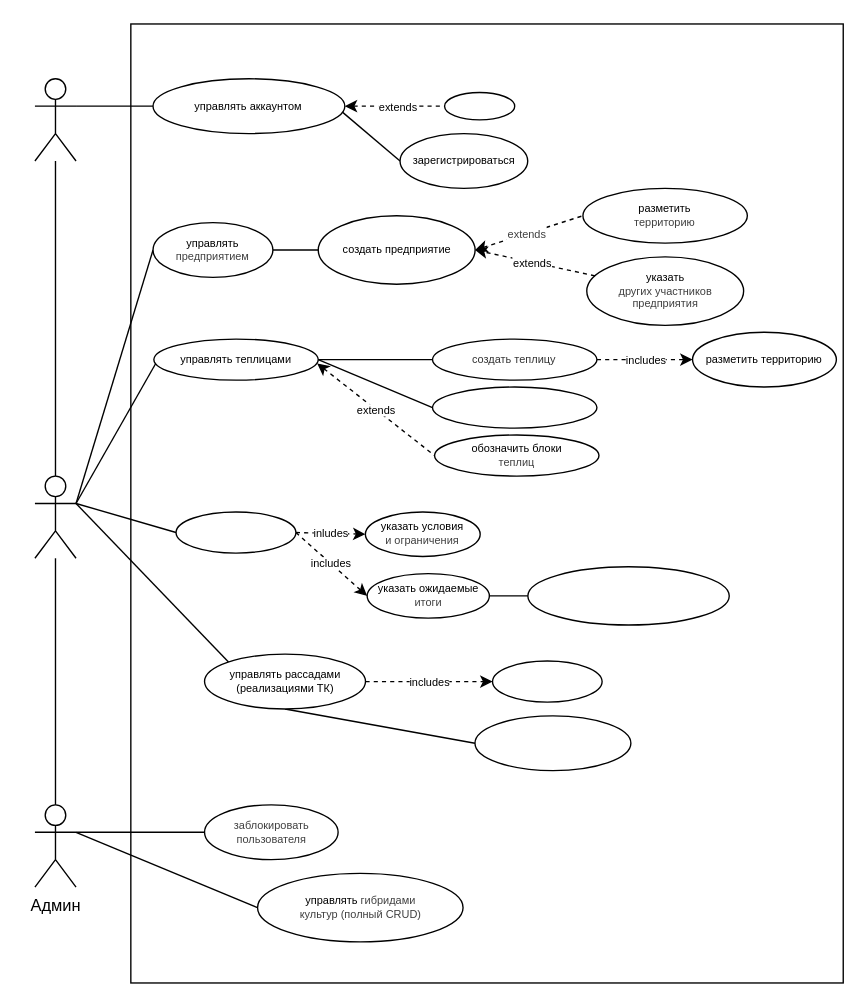
Some shapes in this 867 by 1007 pixel diagram are drawn without their labels. The centre of each missing label's shape, as x and y in pixels:
"cоставить ТК" belongs at point 235,532.
"Агроном" belongs at point 55,516.
"войти" belongs at point 479,105.
"Гость" belongs at point 55,119.
"закрыть ТК" belongs at point 546,681.
"настроить свойства" belongs at point 514,407.
"оптимизировать и провалидировать ожидаемые итоги" belongs at point 627,595.
"просмотреть историю рассад" belongs at point 552,742.
